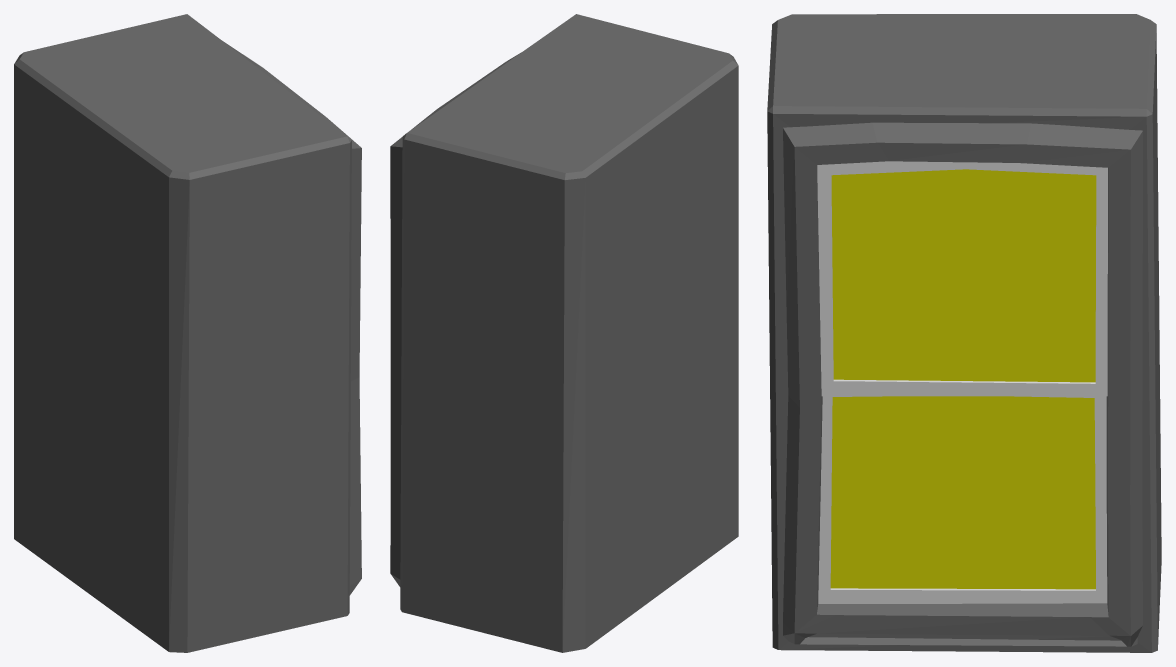
File: Bar_Refrigerator.fbx
The picture shows the model from 3 angles, left to right: view 1: azimuth 30°, elevation 25°; view 2: azimuth 150°, elevation 25°; view 3: azimuth 270°, elevation 25°; orthographic projection. The views are drawn at different scales.
Parts seen in each view (by area): view 1: Bar_Refrigerator; view 2: Bar_Refrigerator; view 3: Bar_Refrigerator.
Part boxes in pixels (<box>): Bar_Refrigerator: <box>14,14,361,652</box>; Bar_Refrigerator: <box>390,14,738,652</box>; Bar_Refrigerator: <box>767,14,1161,652</box>.
Size of the model in its own units: 81.74 by 187 by 123.
